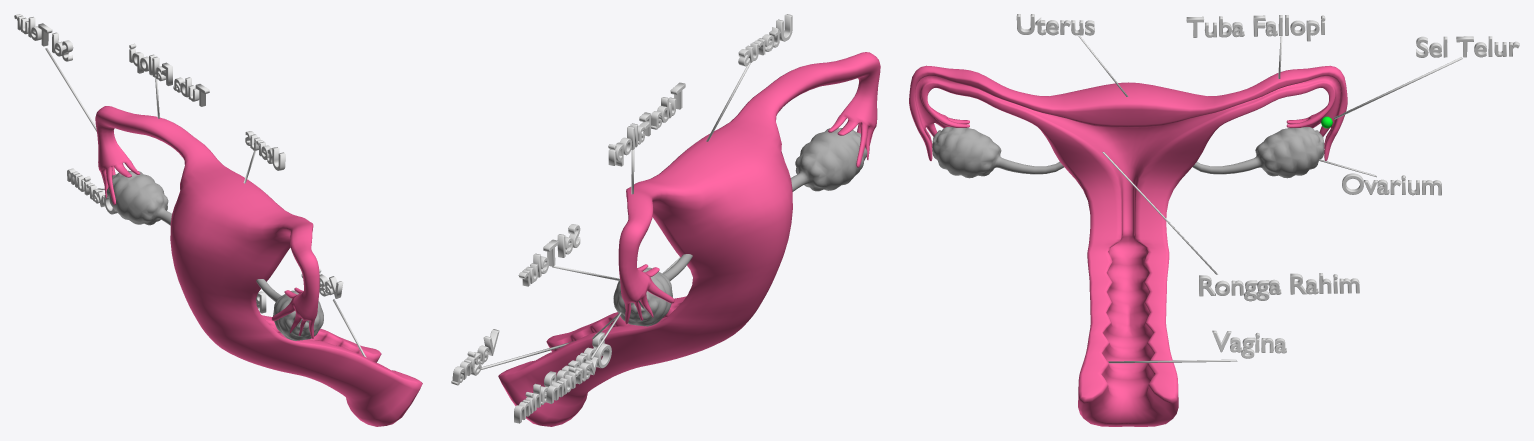
The model's file is fase1.fbx.
3 views of the same model, side by side, from view 1: azimuth 30°, elevation 25°; view 2: azimuth 150°, elevation 25°; view 3: azimuth 270°, elevation 25° (orthographic). The views are drawn at different scales.
Parts seen in each view (by area): view 1: Cube.001, Sphere, tuba fallopi, sel telur, ovarium, uterus, vagina; view 2: Cube.001, Sphere, tuba fallopi, rongga rahim, sel telur, ovarium, uterus, vagina; view 3: Cube.001, Sphere, rongga rahim, tuba fallopi, sel telur, ovarium, vagina, uterus.
Boxes of the visible parts, bbox=[...] form: Cube.001: bbox=[95, 106, 422, 426]; Sphere: bbox=[106, 170, 323, 340]; tuba fallopi: bbox=[129, 43, 209, 106]; sel telur: bbox=[14, 14, 73, 61]; ovarium: bbox=[67, 168, 117, 214]; uterus: bbox=[245, 131, 285, 170]; vagina: bbox=[301, 268, 343, 298]; Cube.001: bbox=[498, 52, 880, 426]; Sphere: bbox=[613, 128, 867, 326]; tuba fallopi: bbox=[608, 82, 685, 166]; rongga rahim: bbox=[514, 332, 604, 423]; sel telur: bbox=[518, 224, 580, 286]; ovarium: bbox=[546, 343, 611, 403]; uterus: bbox=[738, 14, 792, 66]; vagina: bbox=[451, 329, 499, 385]; Cube.001: bbox=[909, 65, 1347, 426]; Sphere: bbox=[932, 127, 1324, 178]; rongga rahim: bbox=[1199, 273, 1359, 301]; tuba fallopi: bbox=[1186, 15, 1325, 41]; sel telur: bbox=[1416, 36, 1519, 57]; ovarium: bbox=[1342, 173, 1441, 195]; vagina: bbox=[1212, 330, 1286, 358]; uterus: bbox=[1016, 14, 1094, 35].
Size of the model in its own units: 74.77 by 108 by 174.
Materials: 8 (3 with a texture image).
